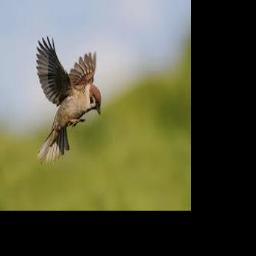Sparrow: (37, 36, 102, 165)
